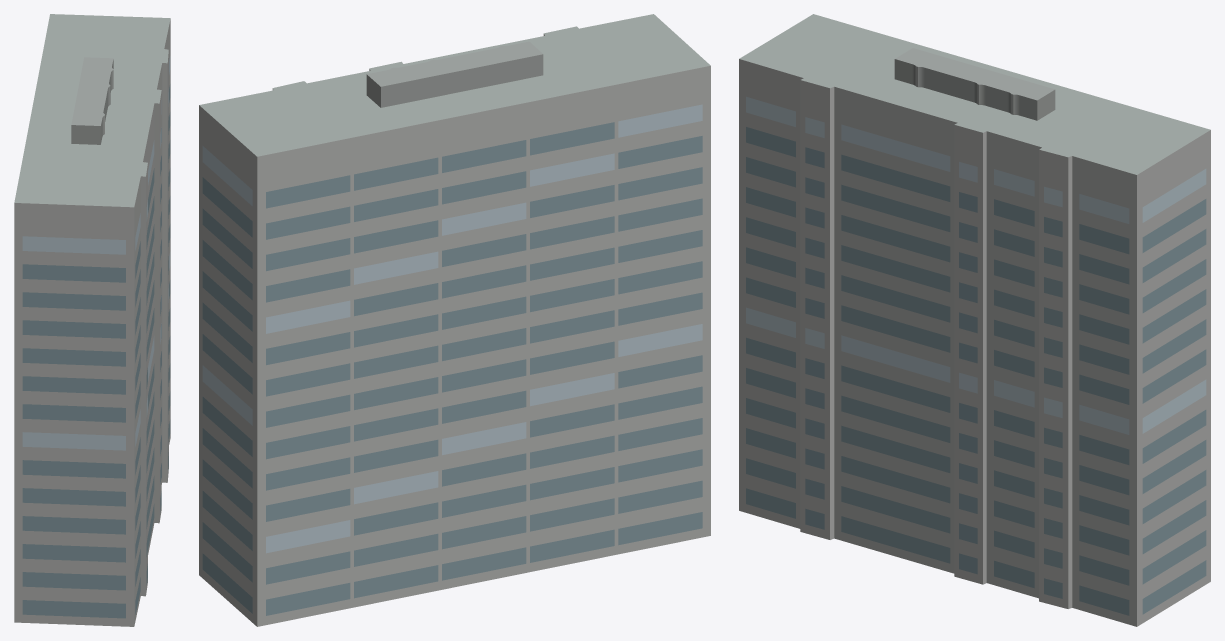
File: apt-a13071301.glb
3 renders of one model, left to right at view 1: azimuth 30°, elevation 25°; view 2: azimuth 150°, elevation 25°; view 3: azimuth 270°, elevation 25°, orthographic. The views are drawn at different scales.
Visible parts, largest first — view 1: apt-a13071301; view 2: apt-a13071301; view 3: apt-a13071301.
Part boxes in pixels (x1,y1,x2,y2): apt-a13071301: [14, 14, 170, 626]; apt-a13071301: [199, 14, 710, 626]; apt-a13071301: [739, 14, 1210, 626].
Bounding box in the file's own units: 34.98 × 47.81 × 43.3.
